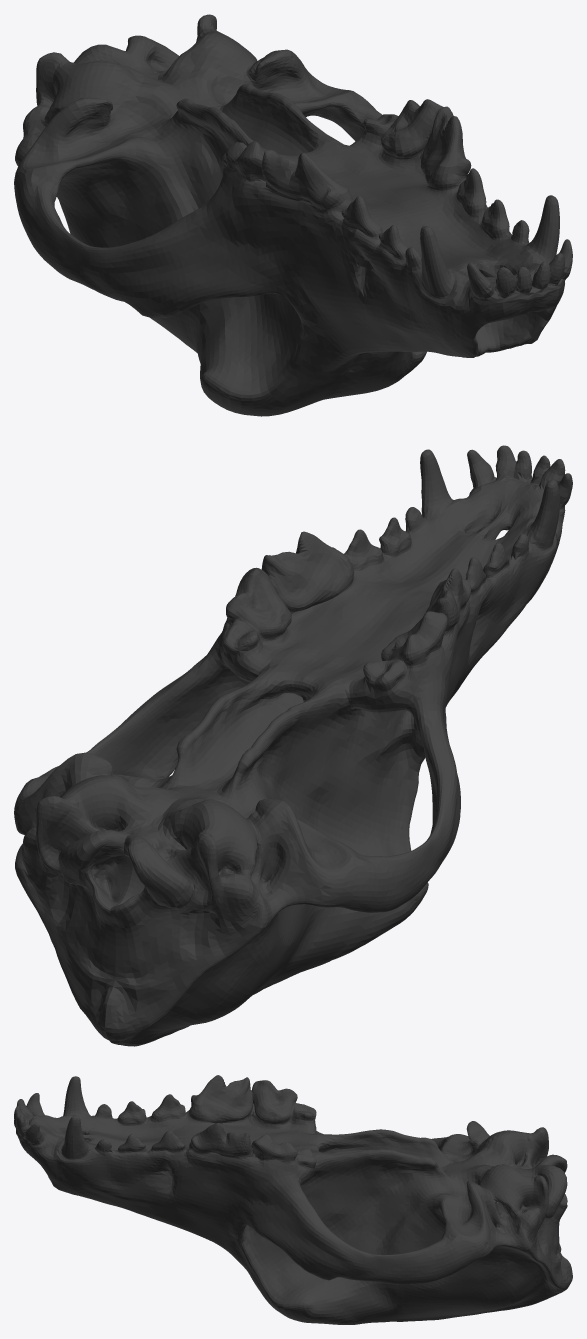
File: Cranium_1.glb
3 renders of one model, top to bottom at view 1: azimuth 30°, elevation 25°; view 2: azimuth 150°, elevation 25°; view 3: azimuth 270°, elevation 25°, orthographic. The views are drawn at different scales.
Parts seen in each view (by area): view 1: Cranium_1; view 2: Cranium_1; view 3: Cranium_1.
Part boxes in pixels (left/top/right/bottom): Cranium_1: left=14, top=14, right=572, bottom=416; Cranium_1: left=14, top=445, right=572, bottom=1046; Cranium_1: left=14, top=1075, right=572, bottom=1324.
Size of the model in its own units: 0.00281 by 0.00253 by 0.00575.
Materials: 1 (1 with a texture image).
